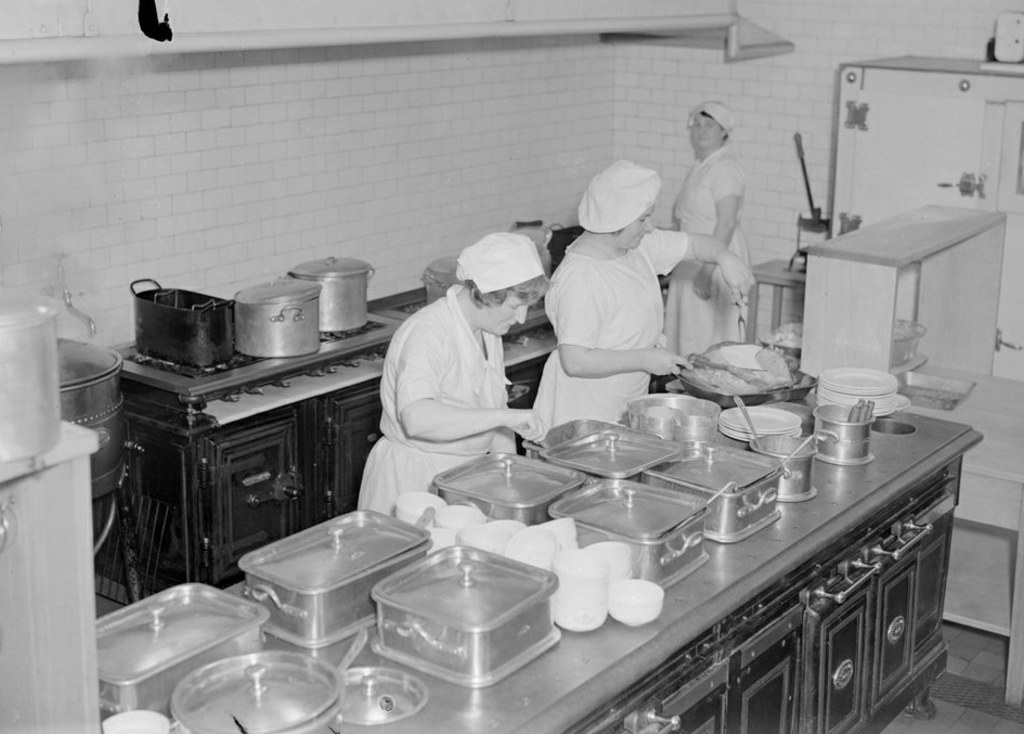Person: (532, 156, 757, 423), (356, 230, 552, 516), (664, 99, 756, 362)
